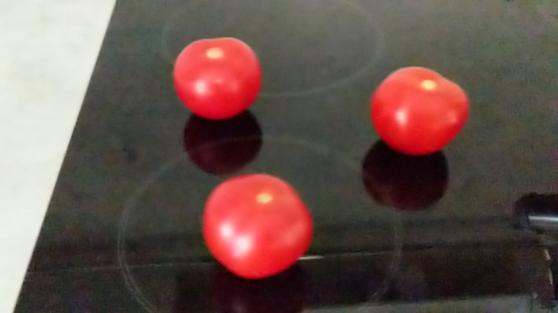tomato: (204, 174, 311, 278), (374, 63, 470, 156), (172, 33, 261, 120)
